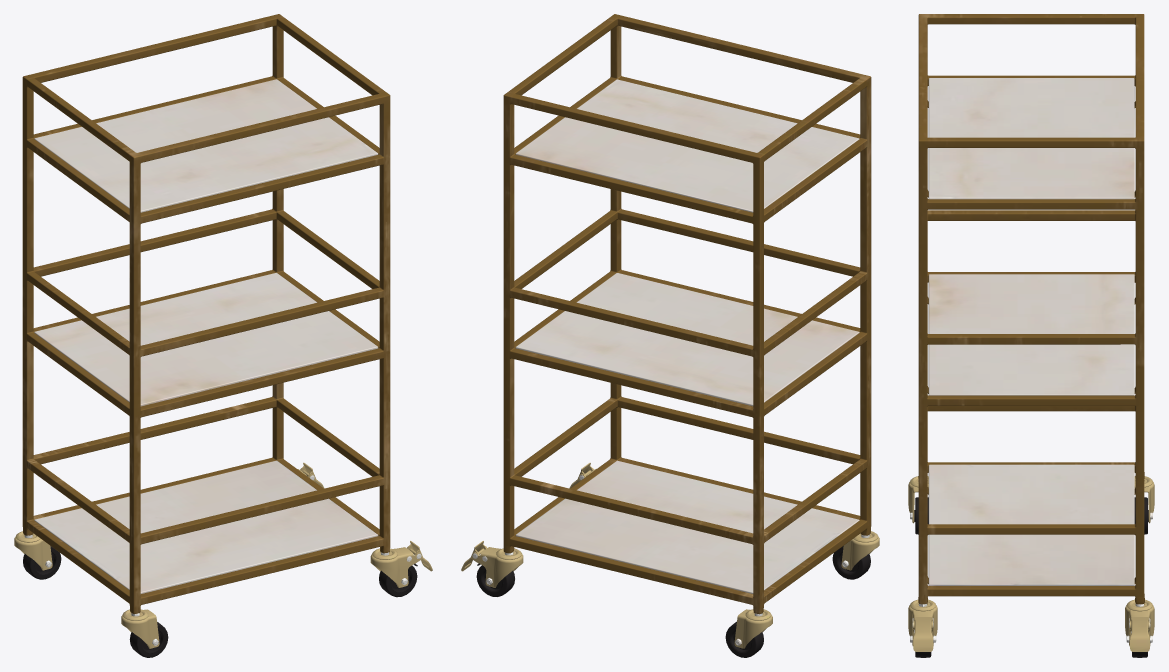
The picture shows the model from 3 angles, left to right: view 1: azimuth 30°, elevation 25°; view 2: azimuth 150°, elevation 25°; view 3: azimuth 270°, elevation 25°; orthographic projection.
Visible parts, largest first — view 1: RootNode; view 2: RootNode; view 3: RootNode.
Part boxes in pixels (box(x1,y1,x2,y2)): RootNode: box(14, 14, 432, 657); RootNode: box(461, 14, 879, 657); RootNode: box(908, 14, 1154, 657).
Size of the model in its own units: 0.4829 by 0.7607 by 0.3325.
Materials: 1 (1 with a texture image).
